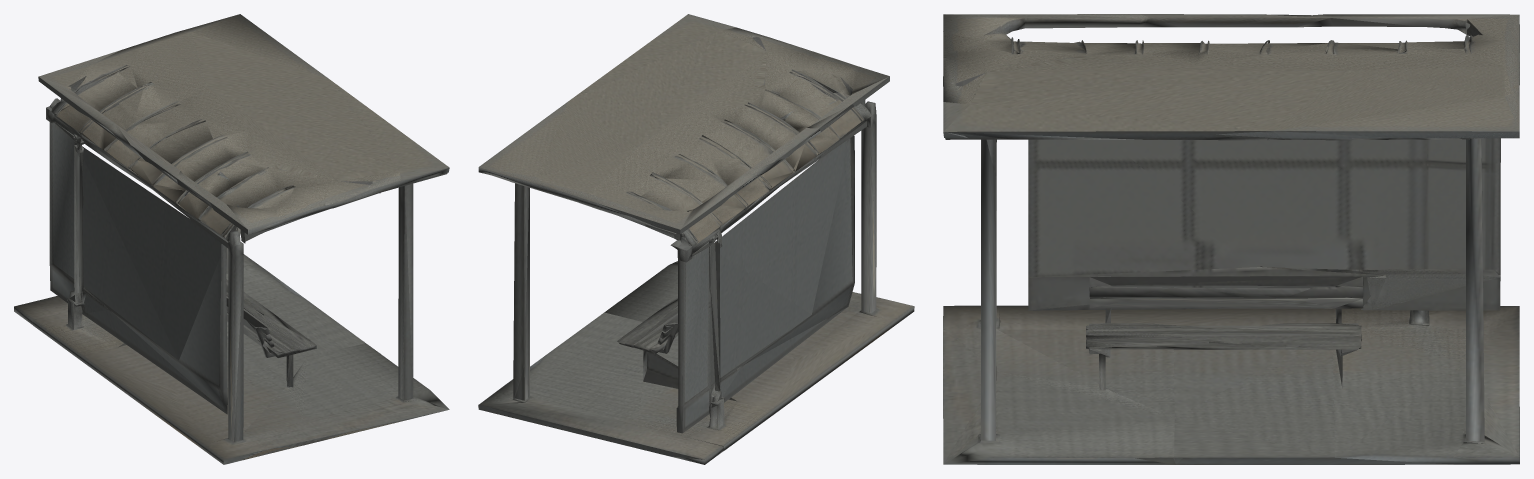
Rendered from ponto-de-onibus-br-v2__01a1b613_LOD1.glb.
3 renders of one model, left to right at view 1: azimuth 30°, elevation 25°; view 2: azimuth 150°, elevation 25°; view 3: azimuth 270°, elevation 25°, orthographic. The views are drawn at different scales.
Visible parts, largest first — view 1: ponto-de-onibus-br-v2__01a1b613_LOD1; view 2: ponto-de-onibus-br-v2__01a1b613_LOD1; view 3: ponto-de-onibus-br-v2__01a1b613_LOD1.
Part boxes in pixels (x1,y1,x2,y2): ponto-de-onibus-br-v2__01a1b613_LOD1: (14,14,449,464); ponto-de-onibus-br-v2__01a1b613_LOD1: (478,14,914,464); ponto-de-onibus-br-v2__01a1b613_LOD1: (943,14,1519,464).
Size of the model in its own units: 2.54 by 2.6 by 4.07.
1 material, 1 textured.
